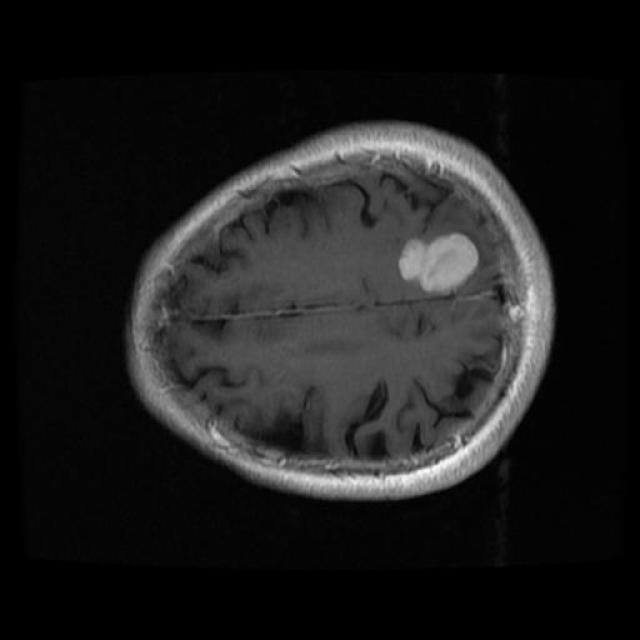Meningioma: (398, 233, 478, 295)
